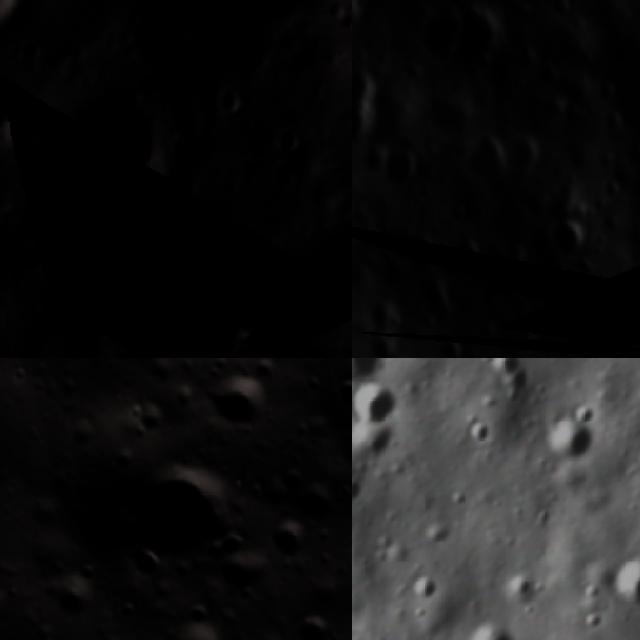crater: (108, 445, 249, 586), (64, 77, 172, 206), (195, 358, 289, 448), (293, 226, 352, 341), (281, 462, 352, 539), (207, 532, 280, 606), (39, 563, 112, 636), (251, 508, 320, 578), (98, 258, 151, 324), (408, 0, 459, 66), (281, 594, 352, 640), (462, 123, 508, 184), (542, 424, 596, 474), (546, 212, 596, 260), (352, 388, 403, 434), (603, 560, 640, 620), (4, 110, 51, 157), (501, 127, 546, 174), (322, 365, 352, 428), (268, 117, 314, 158), (214, 77, 254, 122), (380, 140, 420, 184), (0, 69, 24, 140), (0, 567, 21, 640), (165, 250, 196, 294), (352, 83, 372, 149), (266, 158, 300, 192), (506, 570, 539, 604), (617, 297, 640, 343), (435, 326, 468, 358), (412, 575, 444, 608), (464, 623, 523, 640), (177, 338, 218, 358), (22, 248, 50, 276), (19, 210, 48, 237), (543, 0, 580, 20), (0, 182, 18, 219), (468, 419, 492, 446), (352, 0, 368, 32), (0, 265, 20, 290), (337, 12, 352, 37), (344, 48, 352, 82)
